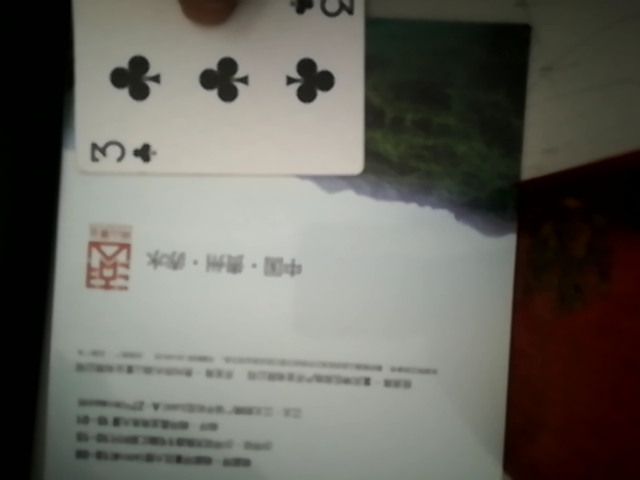mh 3: (69, 0, 364, 182)
